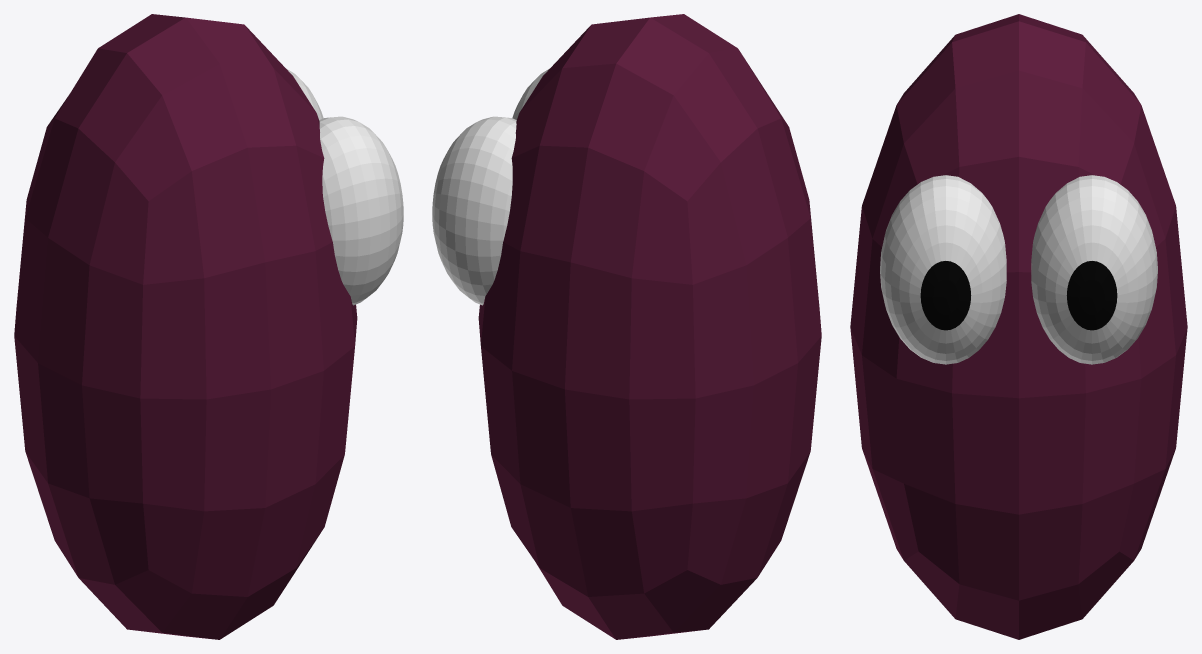
File: Raisin.fbx
The picture shows the model from 3 angles, left to right: view 1: azimuth 30°, elevation 25°; view 2: azimuth 150°, elevation 25°; view 3: azimuth 270°, elevation 25°; orthographic projection.
Parts seen in each view (by area): view 1: Body, Eyes; view 2: Body, Eyes; view 3: Body, Eyes.
Part boxes in pixels (left/top/right/bottom): Body: left=14, top=14, right=357, bottom=639; Eyes: left=286, top=68, right=403, bottom=305; Body: left=478, top=14, right=821, bottom=639; Eyes: left=432, top=68, right=549, bottom=305; Body: left=850, top=14, right=1187, bottom=639; Eyes: left=880, top=175, right=1157, bottom=364.
Size of the model in its own units: 182 by 336 by 168.
